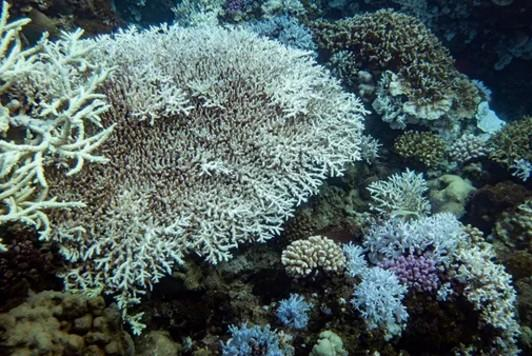bleached_corals: (0, 1, 115, 240), (340, 259, 428, 348), (243, 3, 322, 54), (279, 232, 348, 280), (445, 127, 491, 167), (172, 0, 224, 26), (342, 240, 370, 278), (262, 0, 307, 18)
